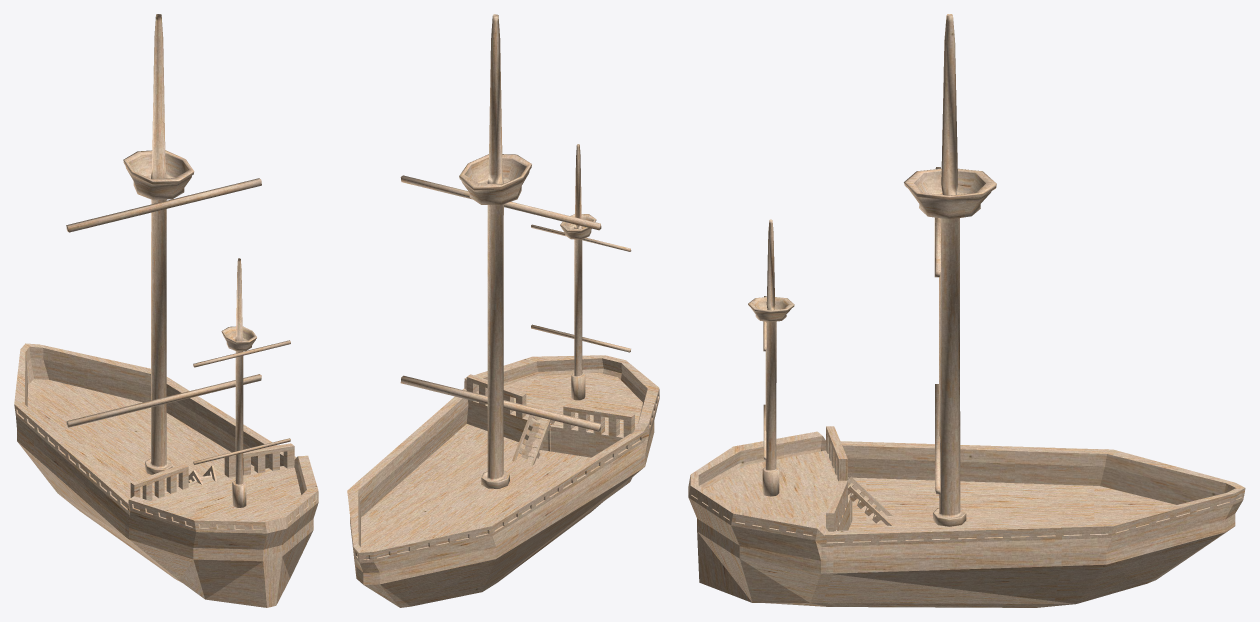
File: ship.obj
3 renders of one model, left to right at view 1: azimuth 30°, elevation 25°; view 2: azimuth 150°, elevation 25°; view 3: azimuth 270°, elevation 25°, orthographic. The views are drawn at different scales.
Parts seen in each view (by area): view 1: Cube.001; view 2: Cube.001; view 3: Cube.001.
Boxes of the visible parts, x1,y1,x2,y2 form: Cube.001: [14, 14, 318, 607]; Cube.001: [347, 14, 659, 607]; Cube.001: [688, 14, 1245, 607].
Size of the model in its own units: 2.08 by 5.3 by 4.69.
